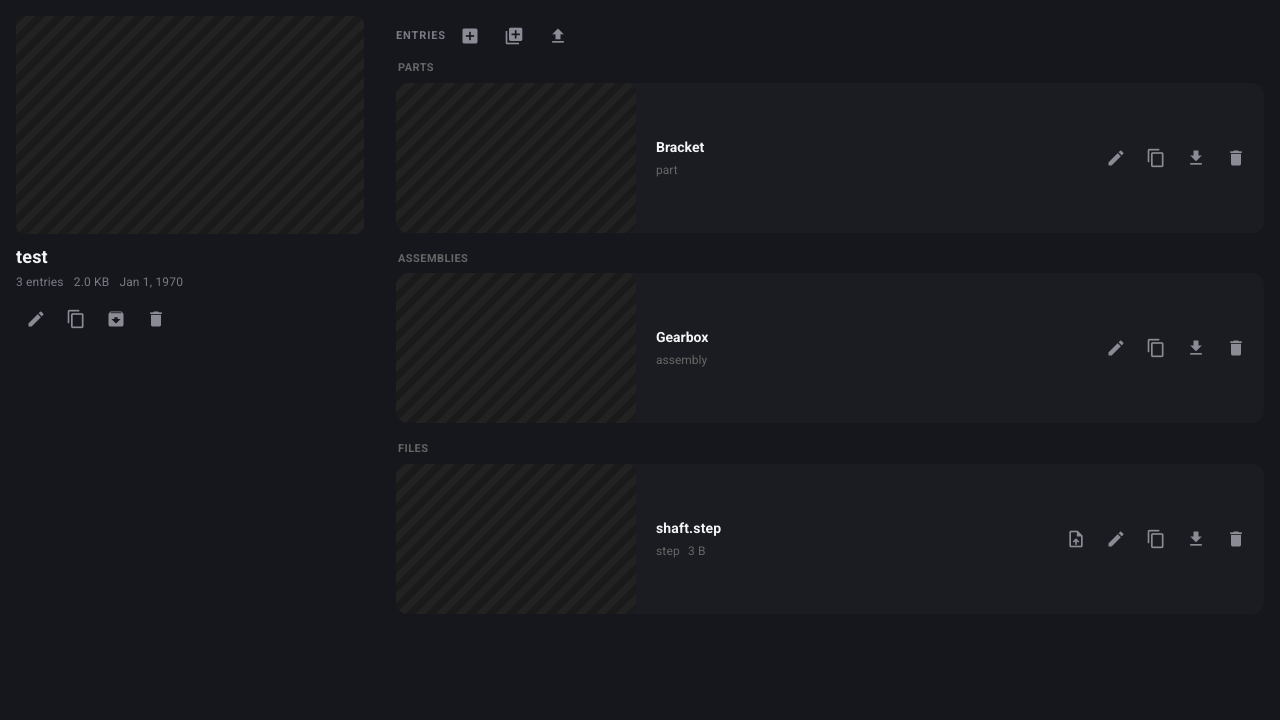
WorkspaceView entry export › reports a part with no solid geometry in the banner
Expected: the text "Bracket" is shown, [656, 136, 704, 158]
Step 1. Click the button named "Export Bracket" → (1196, 158), box [1176, 138, 1216, 178]
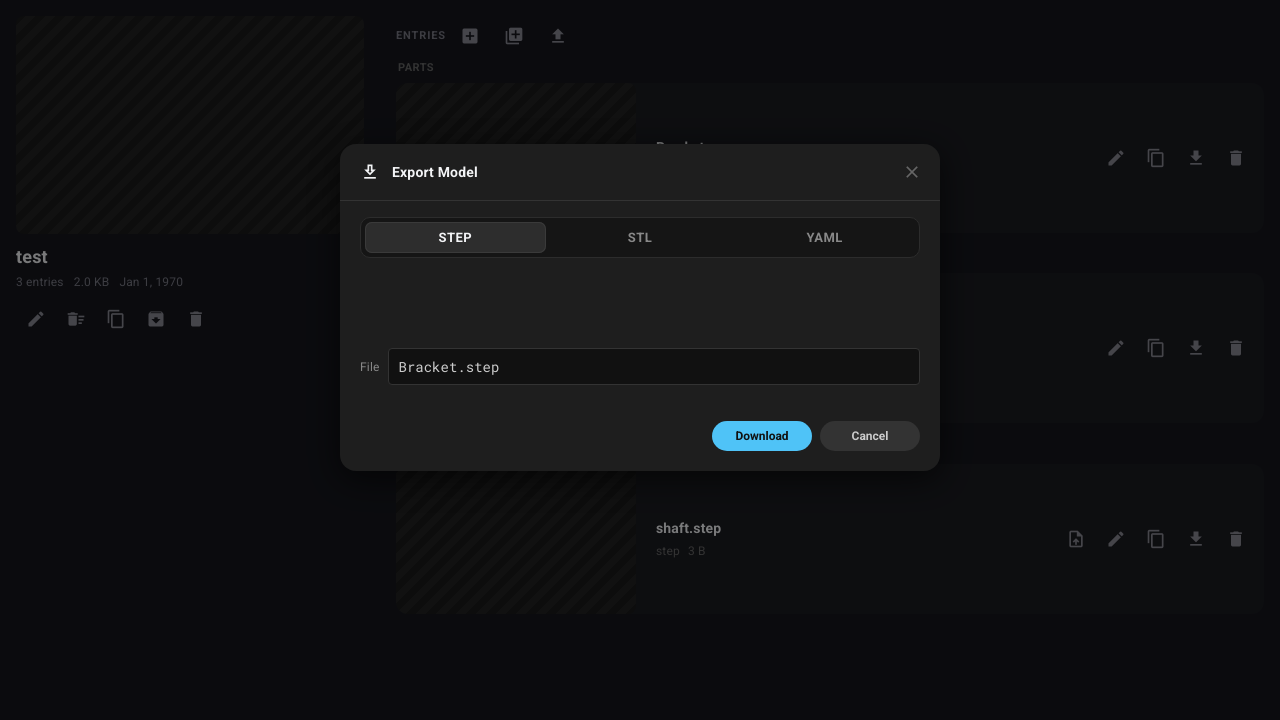
Step 2. Click the button "Download" → (762, 436), box [712, 421, 812, 451]
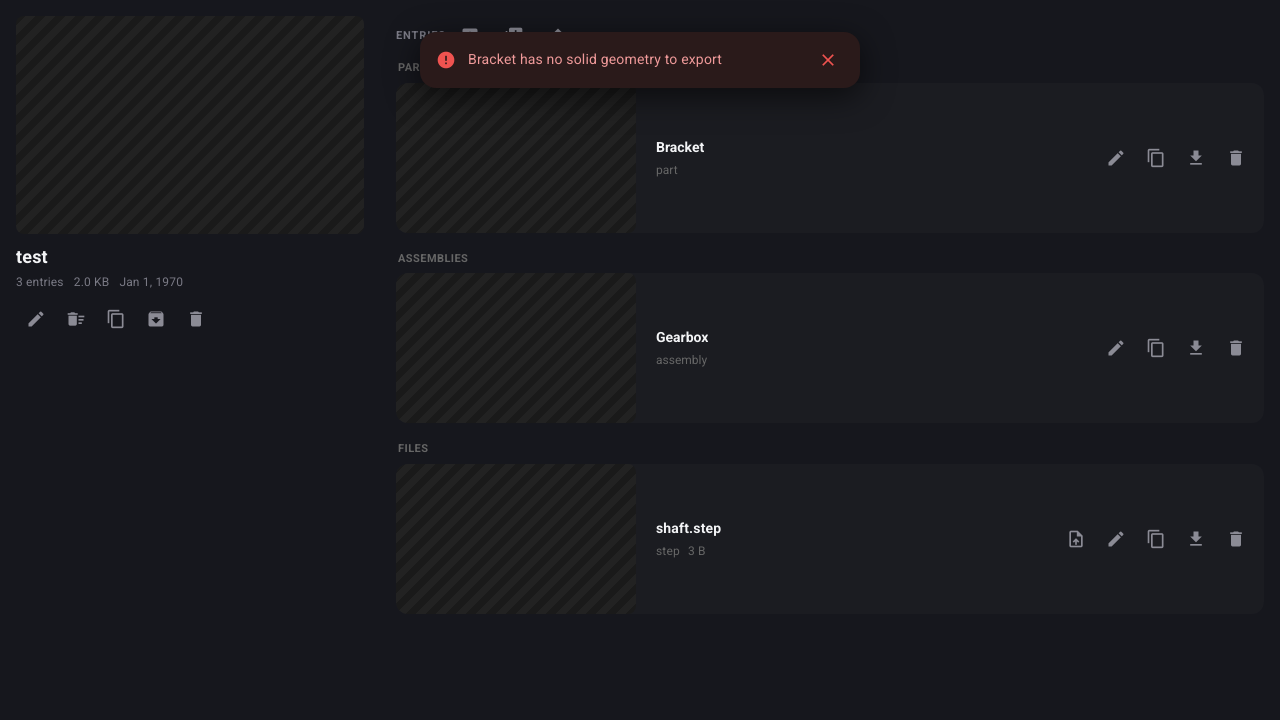
Result: the text "Bracket has no solid geometry to export" is shown at [468, 51, 722, 67]
